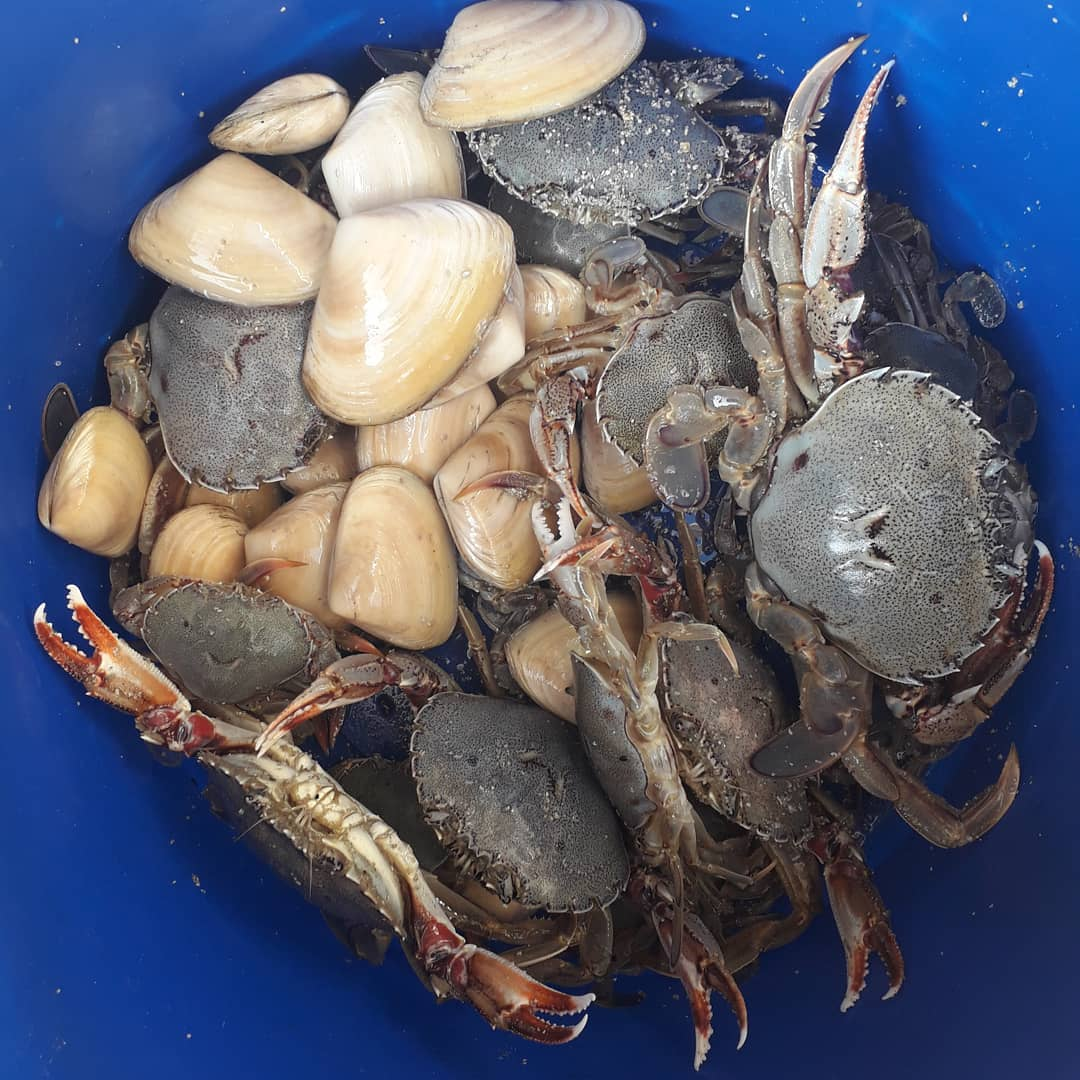tuatua: (305, 189, 522, 422), (121, 146, 345, 305), (417, 1, 647, 133), (318, 461, 460, 653), (431, 394, 559, 589), (321, 67, 474, 206), (32, 405, 153, 563), (243, 478, 345, 632), (204, 70, 347, 161)
